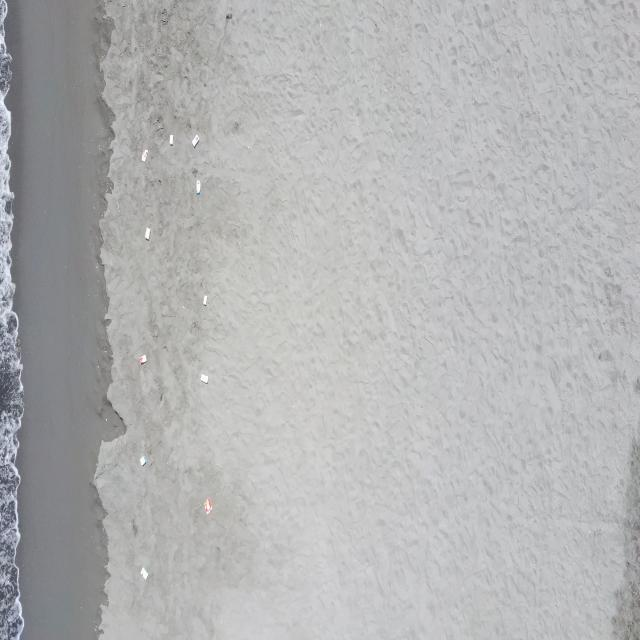Garbage: (203, 496, 212, 513), (140, 567, 148, 580), (192, 134, 199, 147), (140, 148, 147, 160), (144, 227, 150, 240), (138, 353, 145, 364), (200, 373, 207, 383), (196, 179, 200, 193), (139, 455, 145, 464), (201, 295, 207, 304), (168, 134, 172, 144), (227, 12, 231, 20)
